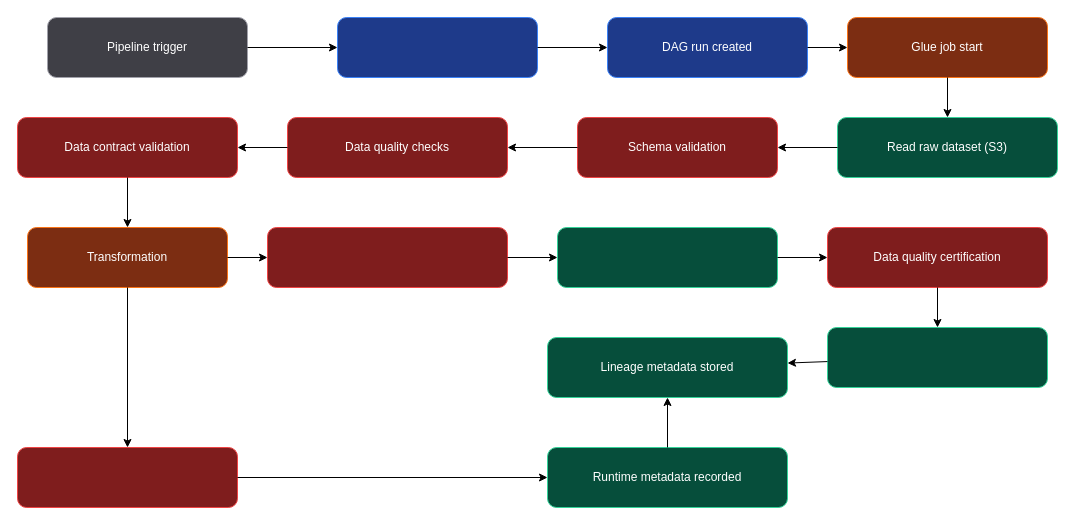
Image size: 1075x525. Some labels were removed from this diagram. The shapes that lost their labels are listed below. From the top down, each one's centre as x and y in pixels, then its label:
At (437,47): "Airflow DAG triggered".
At (387,257): "Post-transform quality checks".
At (667,257): "Write curated dataset (S3)".
At (937,357): "Write gold dataset (S3)".
At (127,477): "Execution logs emitted".
